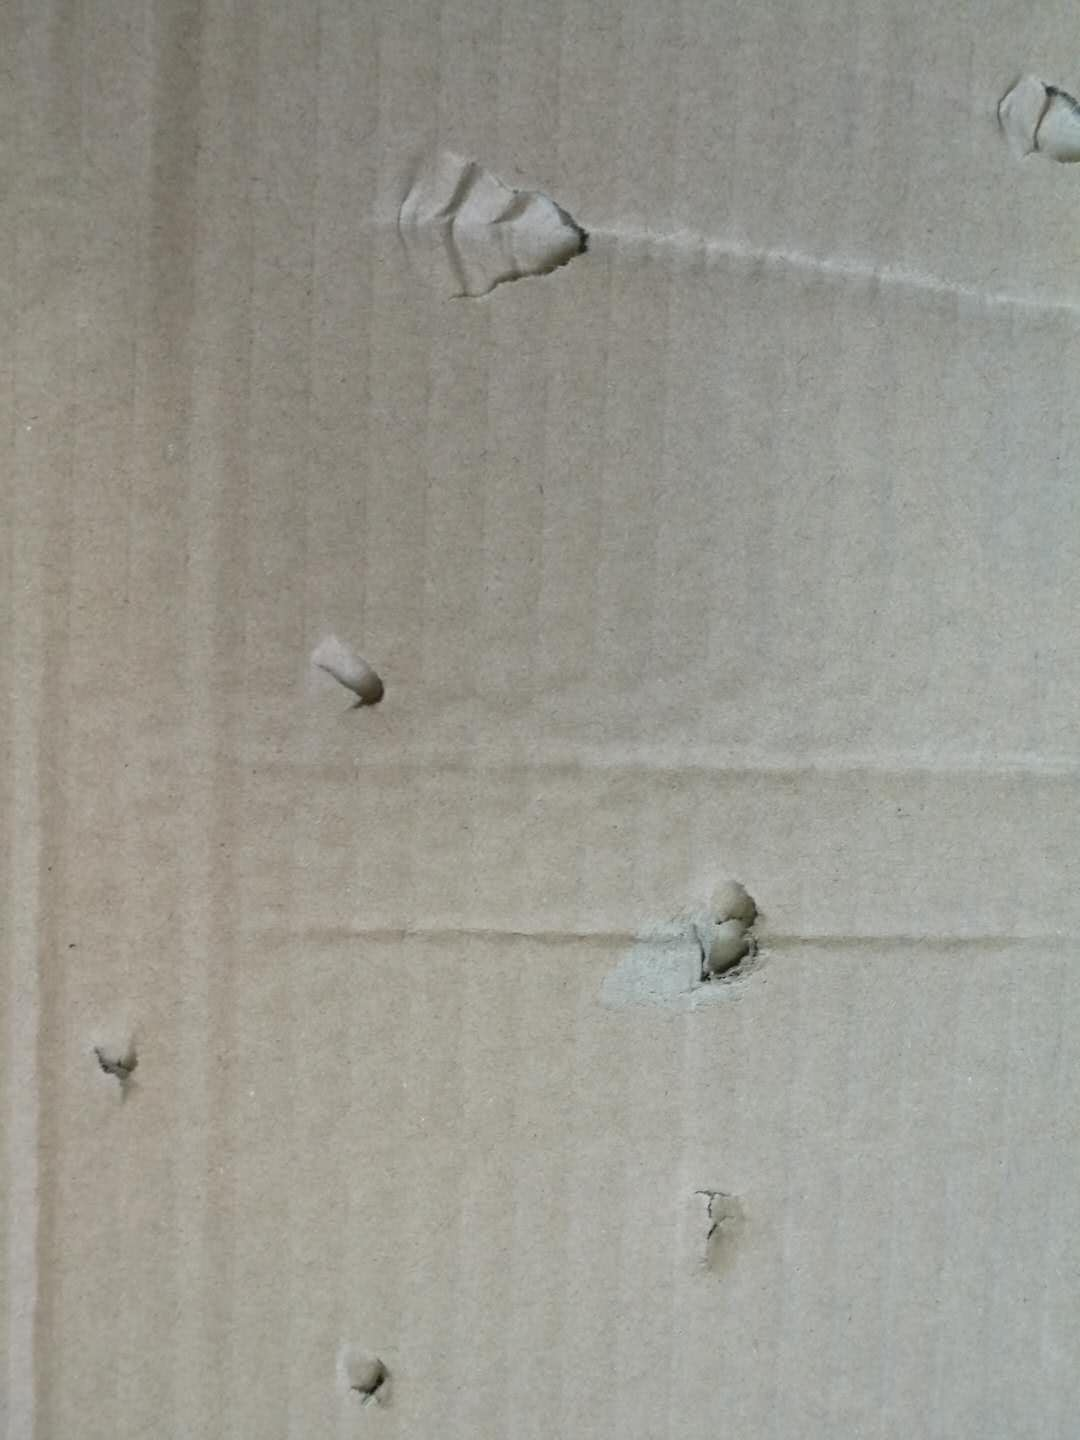defect: (357, 130, 1080, 366), (233, 878, 1080, 1000), (217, 715, 1080, 822), (9, 633, 106, 1440), (580, 859, 811, 1030), (663, 1168, 781, 1302), (985, 53, 1080, 184), (64, 1010, 163, 1128), (292, 625, 400, 732), (319, 1328, 414, 1422)
